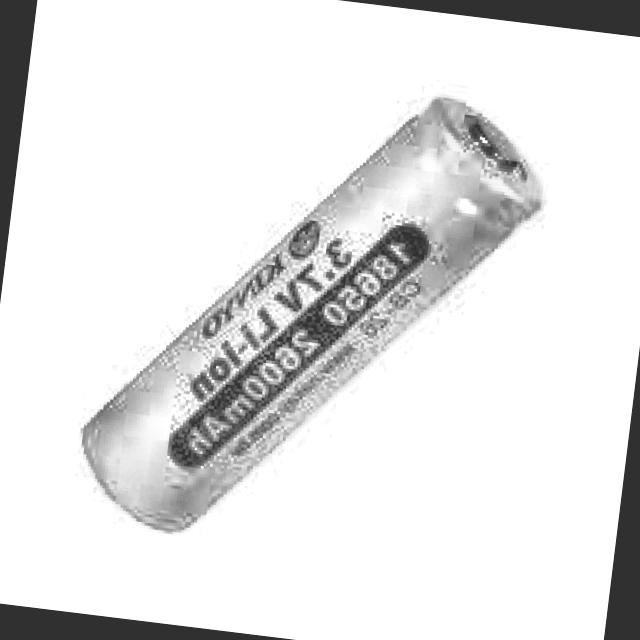Battery: (72, 64, 548, 568)
